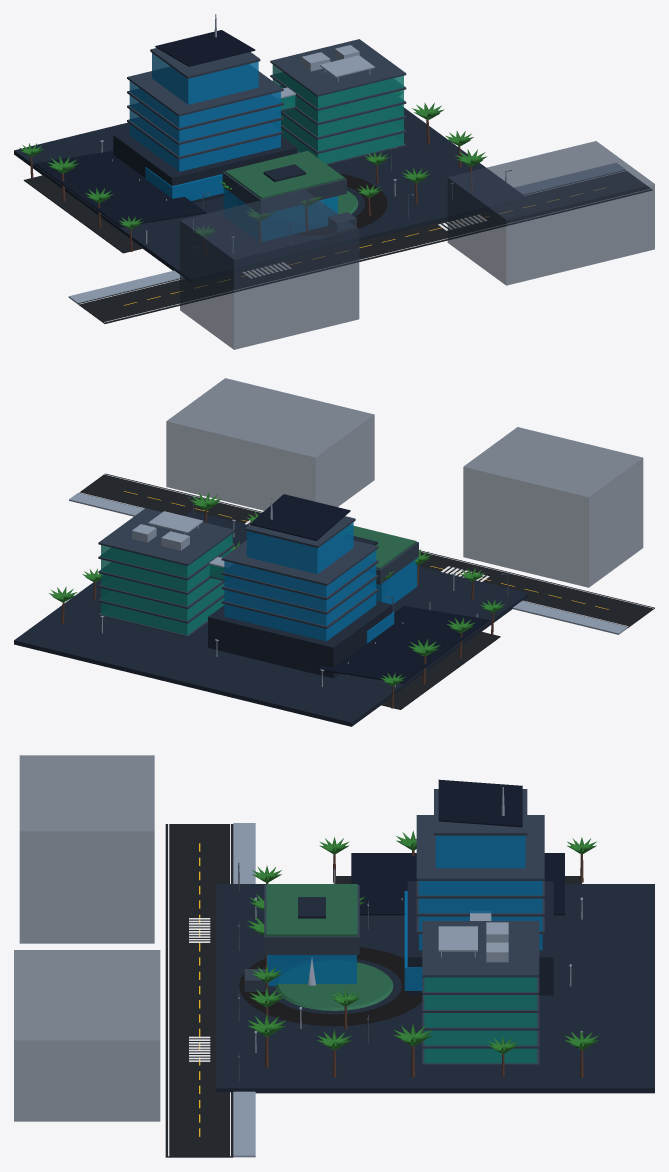
The model's file is tald-smart-city.glb.
3 views of the same model, one above another, from view 1: azimuth 30°, elevation 25°; view 2: azimuth 150°, elevation 25°; view 3: azimuth 270°, elevation 25° (orthographic). The views are drawn at different scales.
Visible parts, largest first — view 1: Surrounding_SmartCity_Urban_Infrastructure, Thiruvananthapuram_TALD_SmartCity_MultiBuilding_Campus, Tower_A_Commercial_HighRise, Tower_B_IT_Operations_Wing, Wing_C_Innovation_Research_Hub; view 2: Surrounding_SmartCity_Urban_Infrastructure, Thiruvananthapuram_TALD_SmartCity_MultiBuilding_Campus, Tower_A_Commercial_HighRise, Tower_B_IT_Operations_Wing, Wing_C_Innovation_Research_Hub; view 3: Surrounding_SmartCity_Urban_Infrastructure, Thiruvananthapuram_TALD_SmartCity_MultiBuilding_Campus, Tower_A_Commercial_HighRise, Tower_B_IT_Operations_Wing, Wing_C_Innovation_Research_Hub.
Part boxes in pixels (x1,y1,x2,y2): Surrounding_SmartCity_Urban_Infrastructure: (23, 141, 654, 349); Thiruvananthapuram_TALD_SmartCity_MultiBuilding_Campus: (14, 106, 526, 282); Tower_A_Commercial_HighRise: (113, 14, 297, 203); Tower_B_IT_Operations_Wing: (270, 39, 406, 164); Wing_C_Innovation_Research_Hub: (222, 151, 346, 241); Surrounding_SmartCity_Urban_Infrastructure: (69, 378, 654, 709); Thiruvananthapuram_TALD_SmartCity_MultiBuilding_Campus: (14, 511, 528, 726); Tower_A_Commercial_HighRise: (208, 494, 394, 678); Tower_B_IT_Operations_Wing: (98, 508, 234, 636); Wing_C_Innovation_Research_Hub: (336, 525, 418, 604); Surrounding_SmartCity_Urban_Infrastructure: (14, 755, 581, 1157); Thiruvananthapuram_TALD_SmartCity_MultiBuilding_Campus: (216, 884, 654, 1093); Tower_A_Commercial_HighRise: (404, 779, 553, 995); Tower_B_IT_Operations_Wing: (422, 921, 539, 1065); Wing_C_Innovation_Research_Hub: (264, 884, 359, 985).
Bounding box in the file's own units: 140 × 36.77 × 114.
